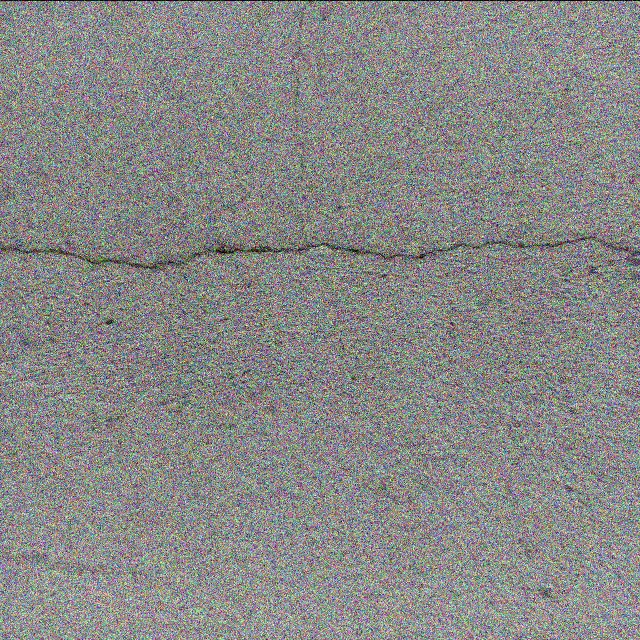SurfaceCrack: (2, 194, 640, 313)
